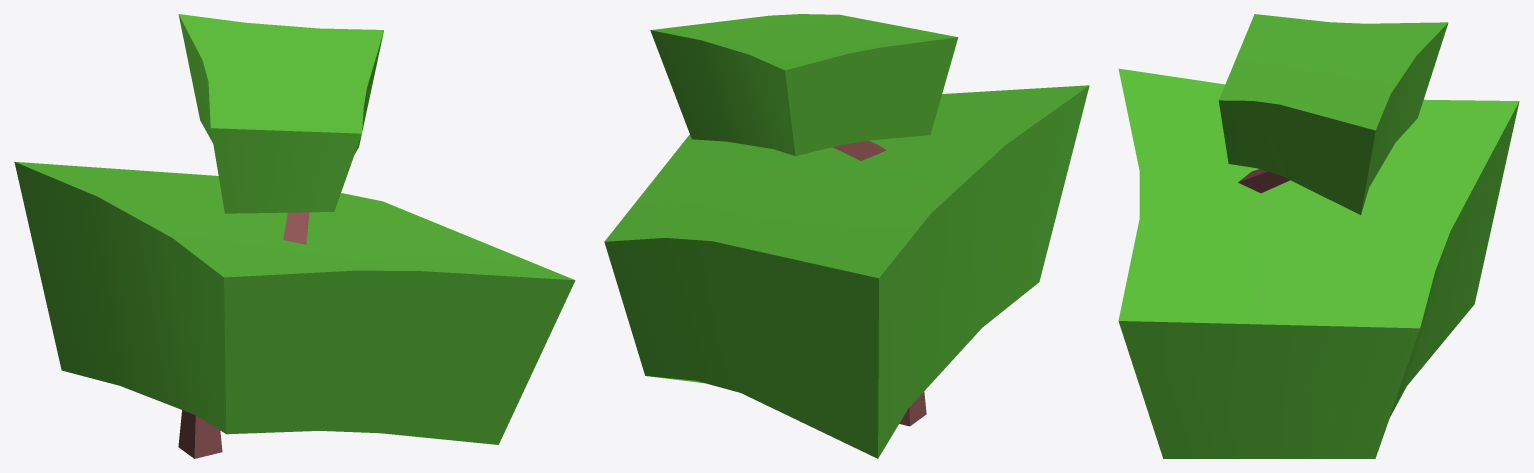
File: Bush.fbx
3 views of the same model, side by side, from view 1: azimuth 30°, elevation 25°; view 2: azimuth 150°, elevation 25°; view 3: azimuth 270°, elevation 25° (orthographic). The views are drawn at different scales.
Visible parts, largest first — view 1: Cube.002; view 2: Cube.002; view 3: Cube.002.
Part boxes in pixels (x1,y1,x2,y2): Cube.002: [14, 14, 575, 458]; Cube.002: [604, 14, 1089, 458]; Cube.002: [1118, 14, 1519, 458].
Size of the model in its own units: 326 by 329 by 328.
